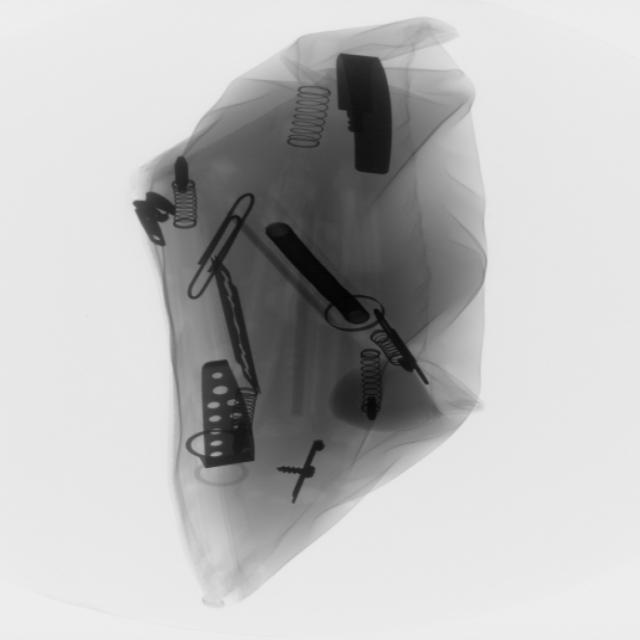BLADE: (207, 253, 267, 406)
